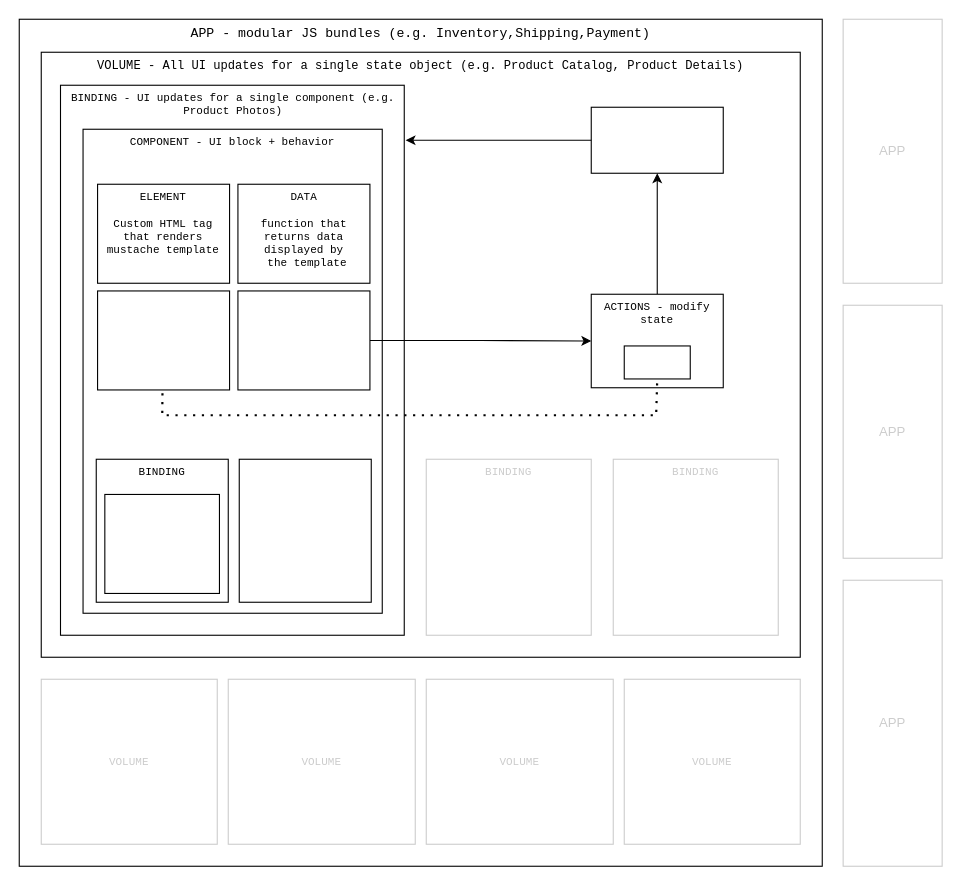
Image size: 961x886. Some labels were removed from this diagram. Each missing label, with the centre of its shape:
"BEHAVIORS HTML event handlers for the element" belongs at pixel 303 340.
"BINDING Bindings can nest indefinitely forming a tree that mirrors the DOM tree" belongs at pixel 304 530.
"PROPS" belongs at pixel 656 362.
"PROPS state properties that this component subscribes to" belongs at pixel 163 340.
"SLOT unique name for this child binding among its peers" belongs at pixel 161 543.
"STATE - data required for this volume" belongs at pixel 656 139.
